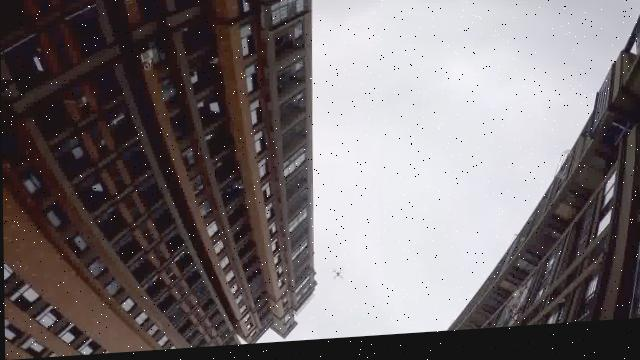drone: (325, 268, 354, 293)
